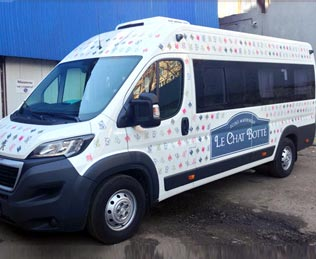van: (1, 15, 316, 246)
